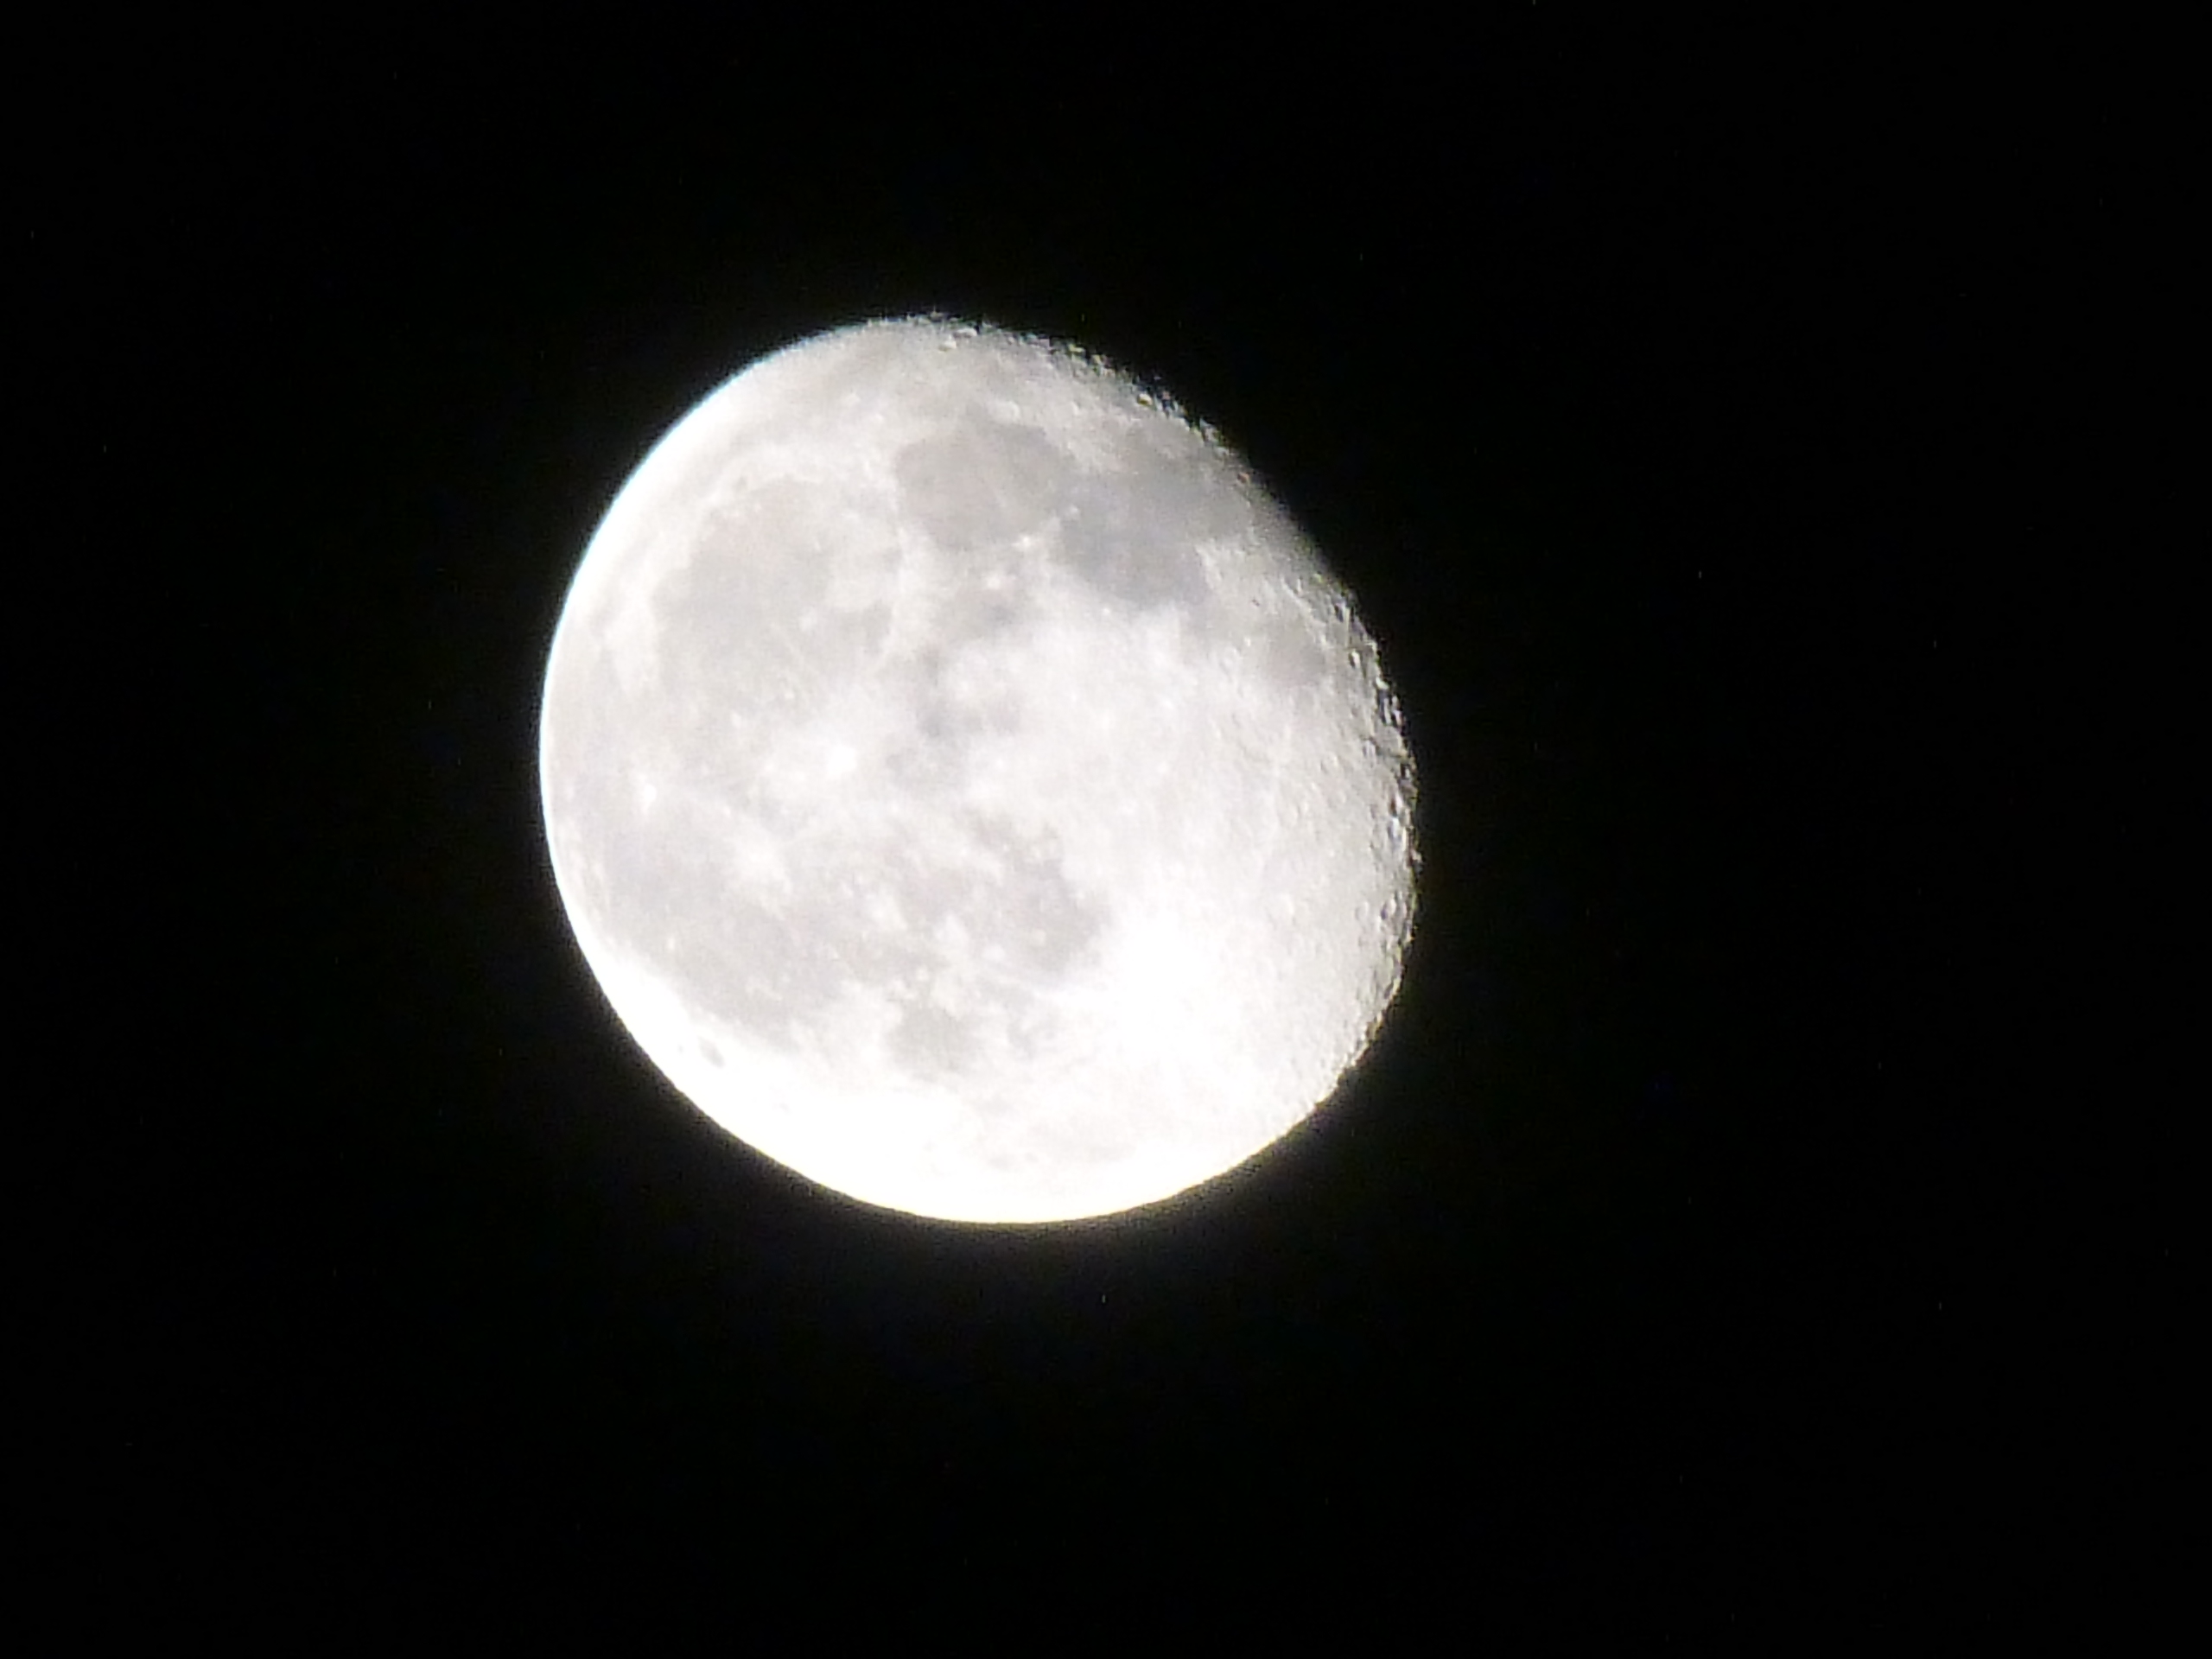crater: (686, 1030, 749, 1087), (1014, 908, 1064, 960), (982, 394, 1038, 437), (1071, 589, 1125, 633), (970, 563, 1028, 599), (714, 467, 763, 500), (1341, 890, 1378, 932), (1318, 781, 1362, 814), (1317, 741, 1357, 772), (927, 335, 970, 362), (1381, 788, 1411, 823), (1376, 896, 1402, 927)
